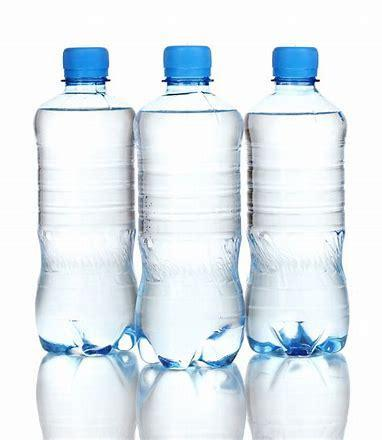plastic_bottle: (137, 34, 249, 378), (23, 40, 142, 361), (246, 30, 354, 374)
